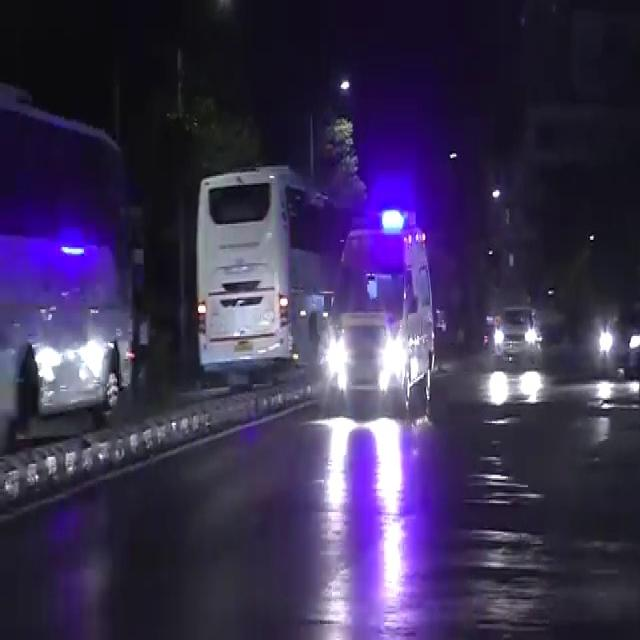ambulance: (327, 200, 432, 417)
